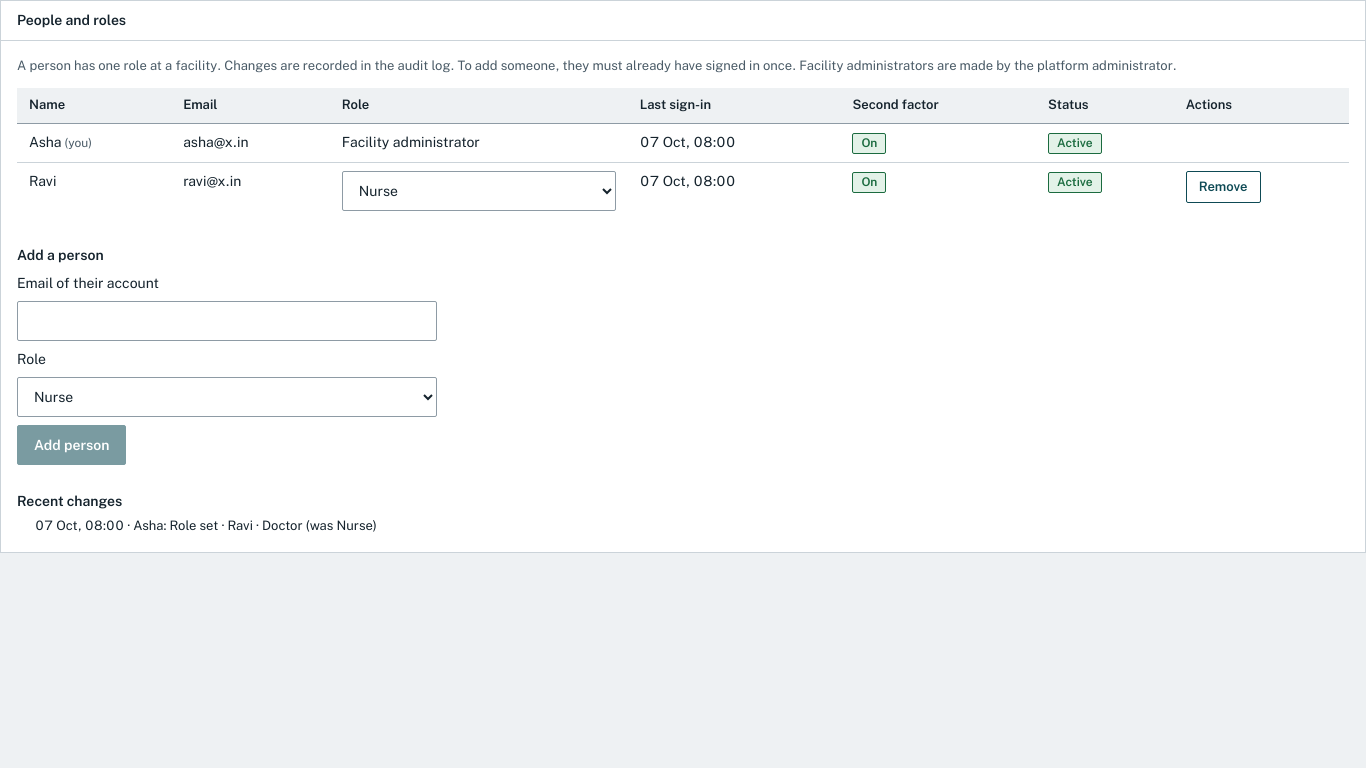
Test: MembersPanel › shows the server's plain refusal and keeps the typed email
The image size is (1366, 768).
Type "no@x.in" into the field labelled "Email of their account" at (227, 321), box 17,301 -> 437,341
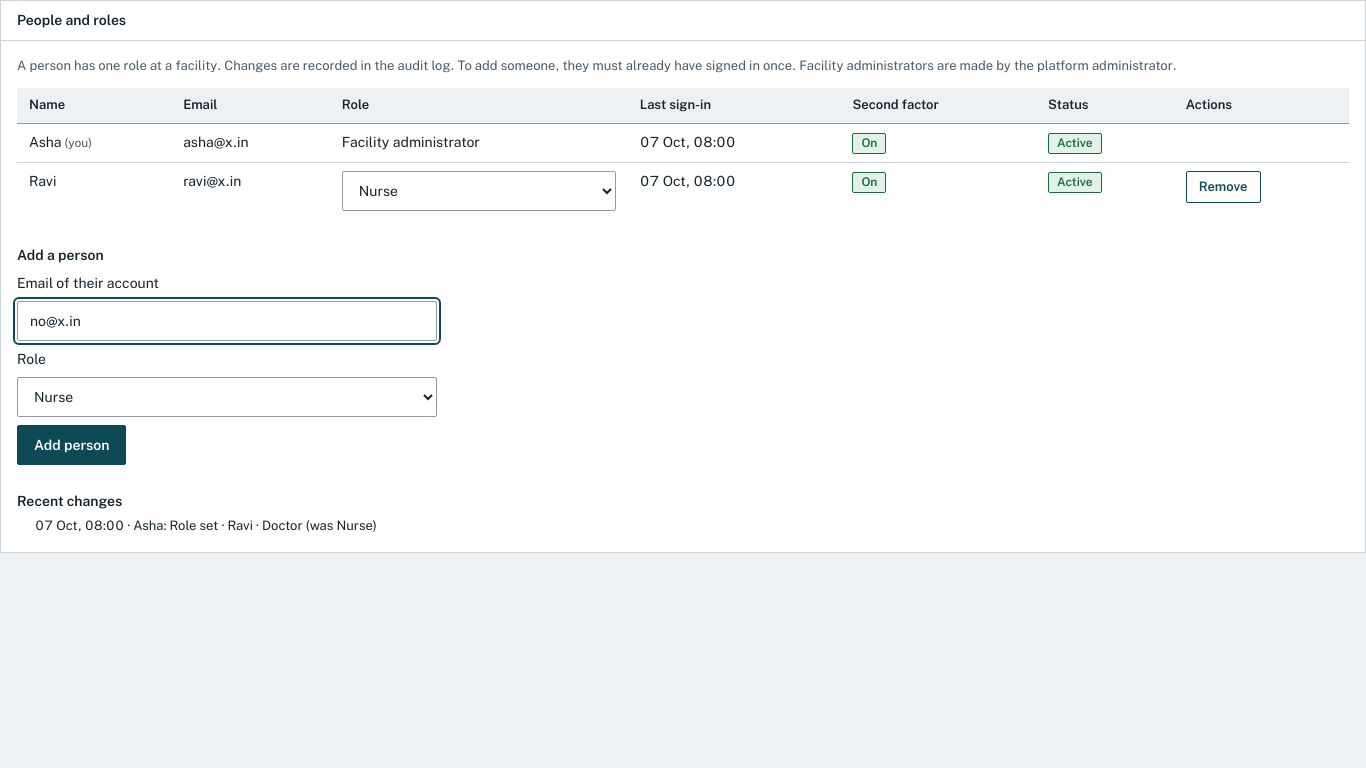
Click the button "Add person" at (72, 445), box 17,425 -> 126,465
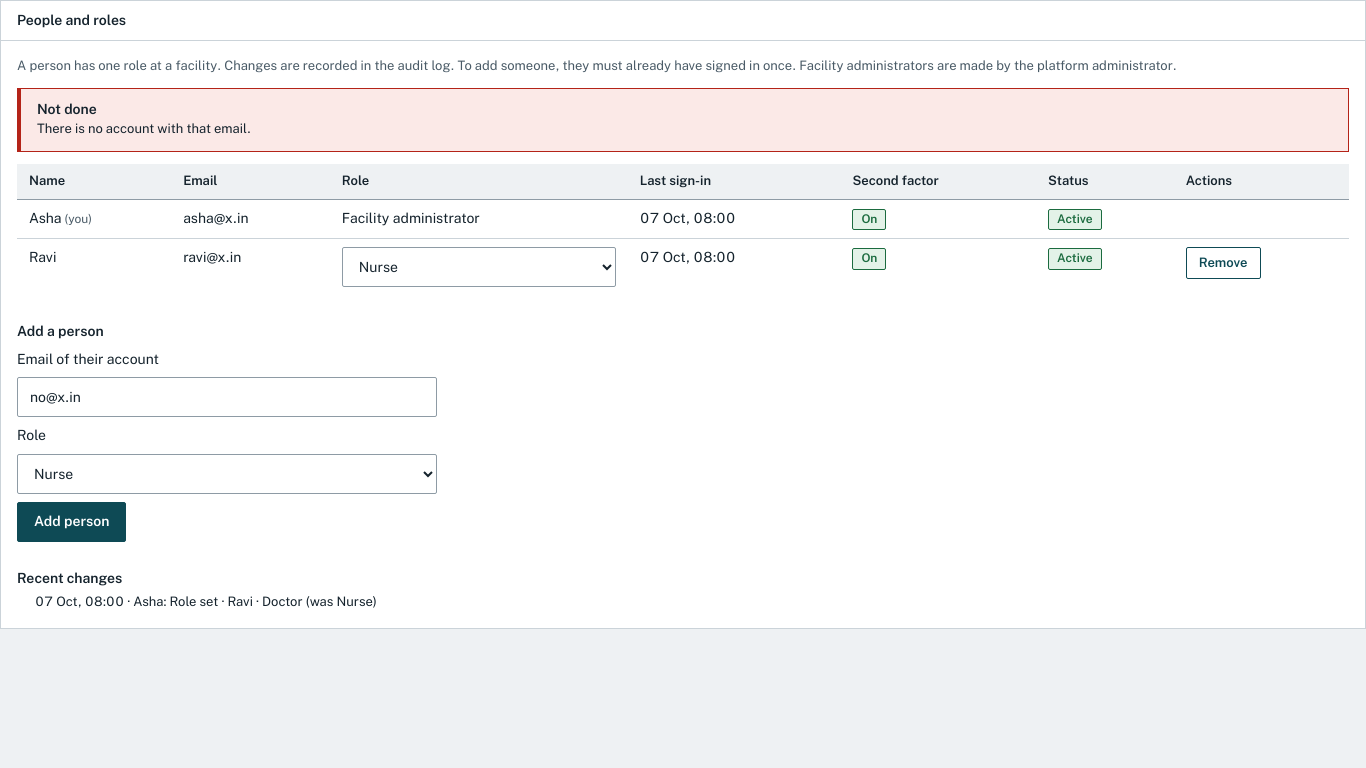
Expected: the text "There is no account with that email." is shown, 37,121 -> 251,136
